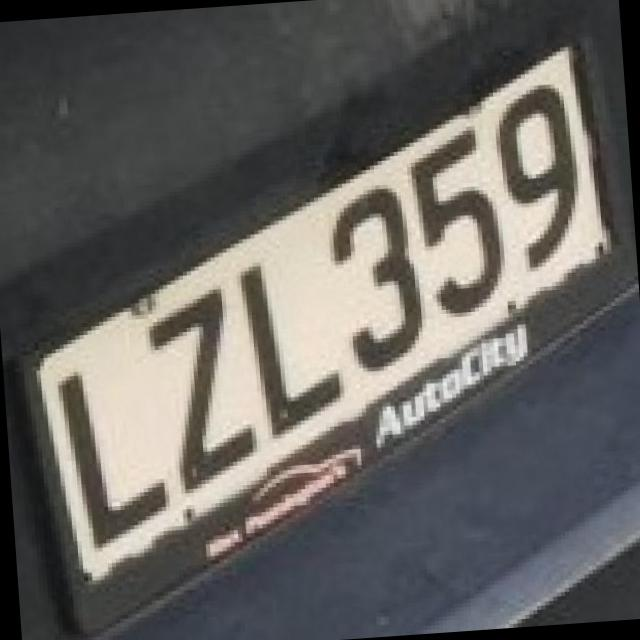3: (304, 169, 434, 383)
5: (386, 111, 516, 325)
9: (468, 32, 600, 274)
L: (30, 340, 181, 560), (218, 240, 355, 441)
Z: (124, 262, 267, 492)
